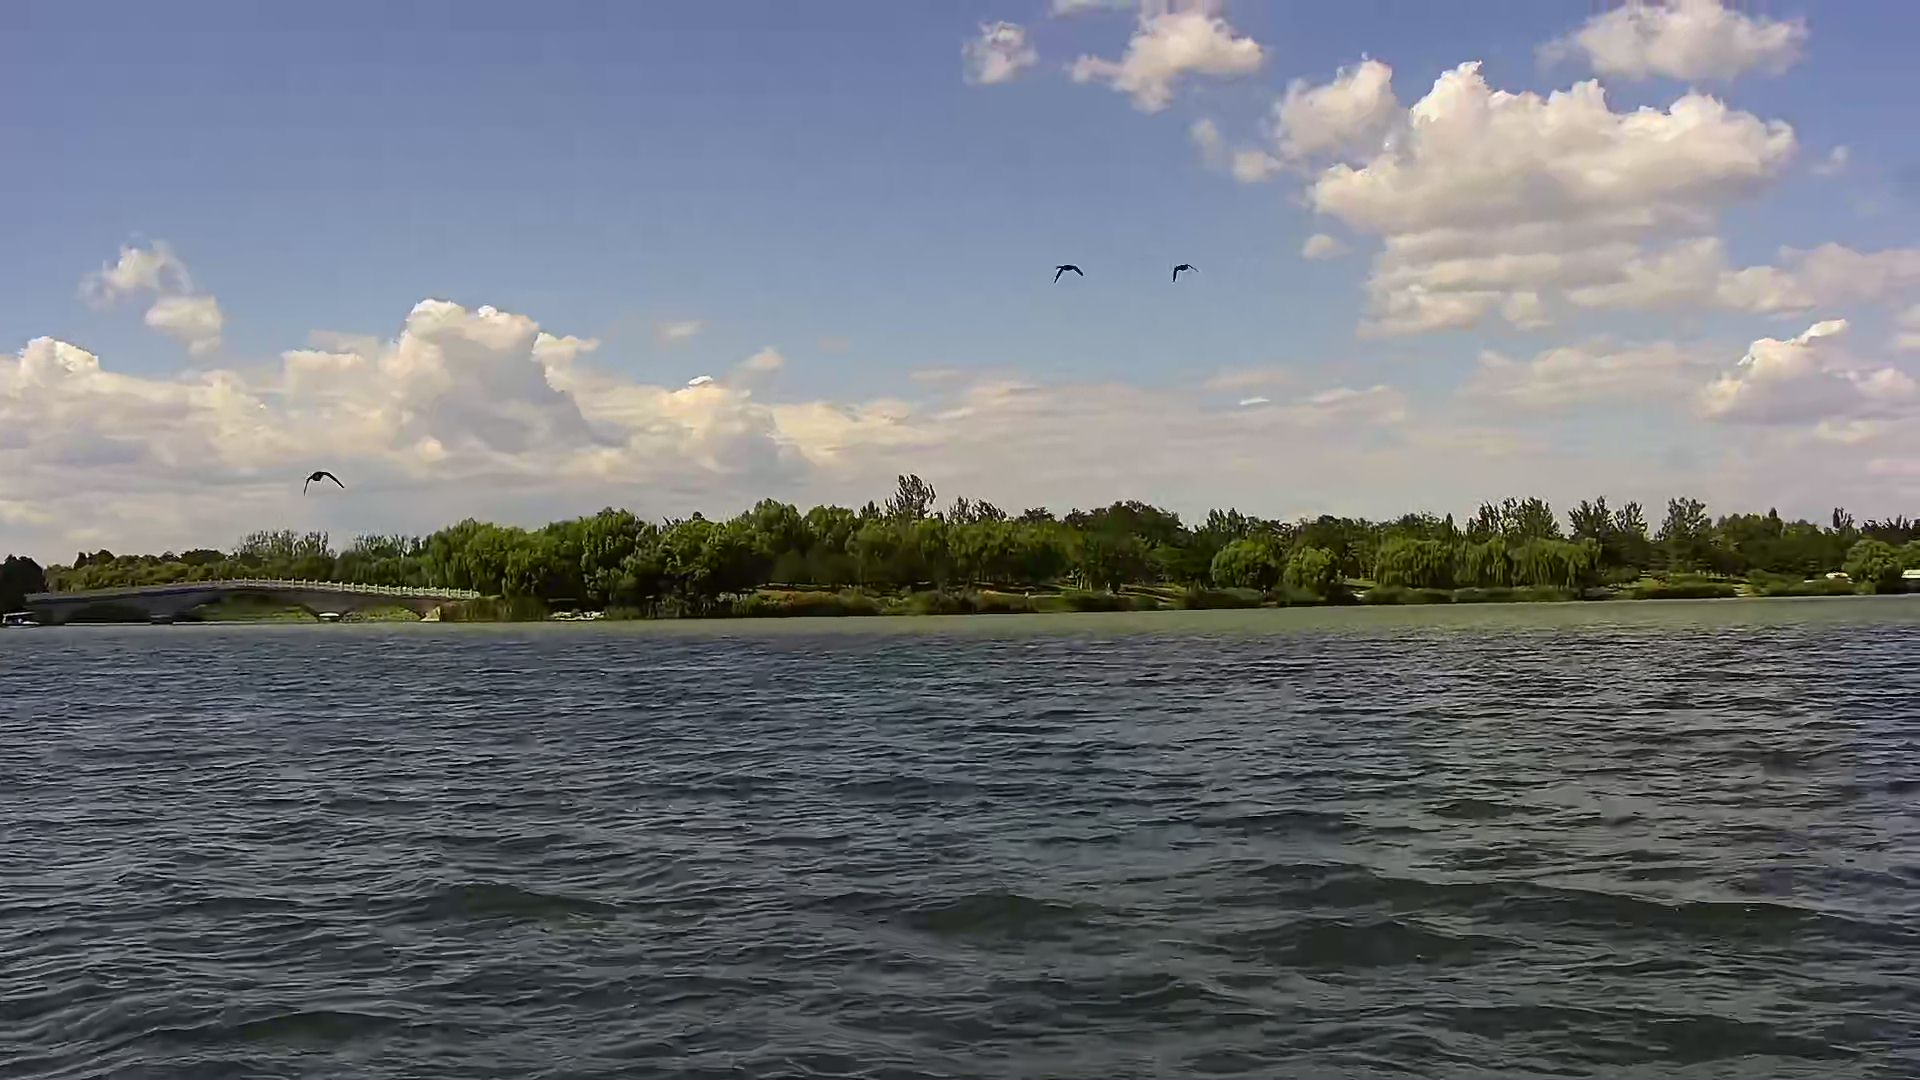bridge: (26, 584, 475, 626)
